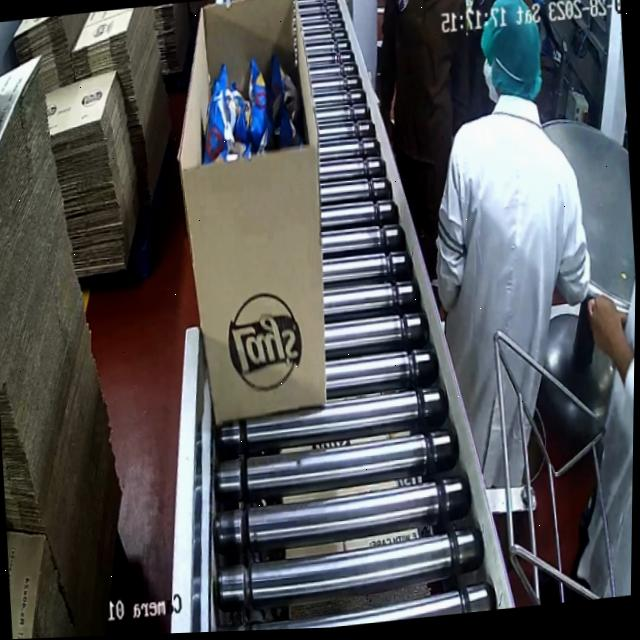PAPRIKA: (195, 41, 306, 163)
